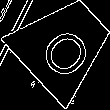O_NE: (31, 12, 97, 78)
